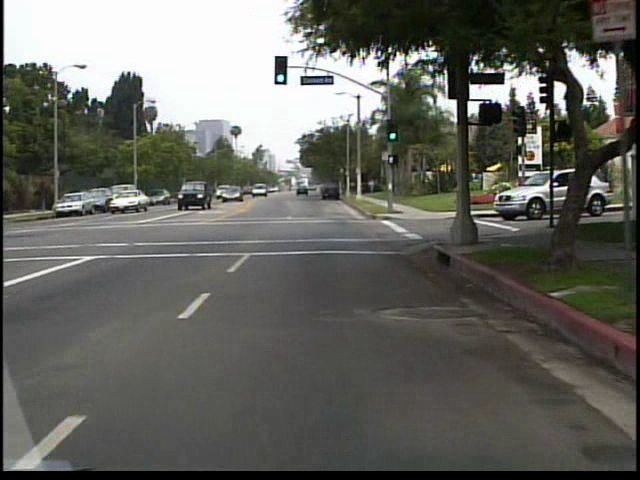person: (360, 175, 369, 199), (369, 175, 378, 195)
